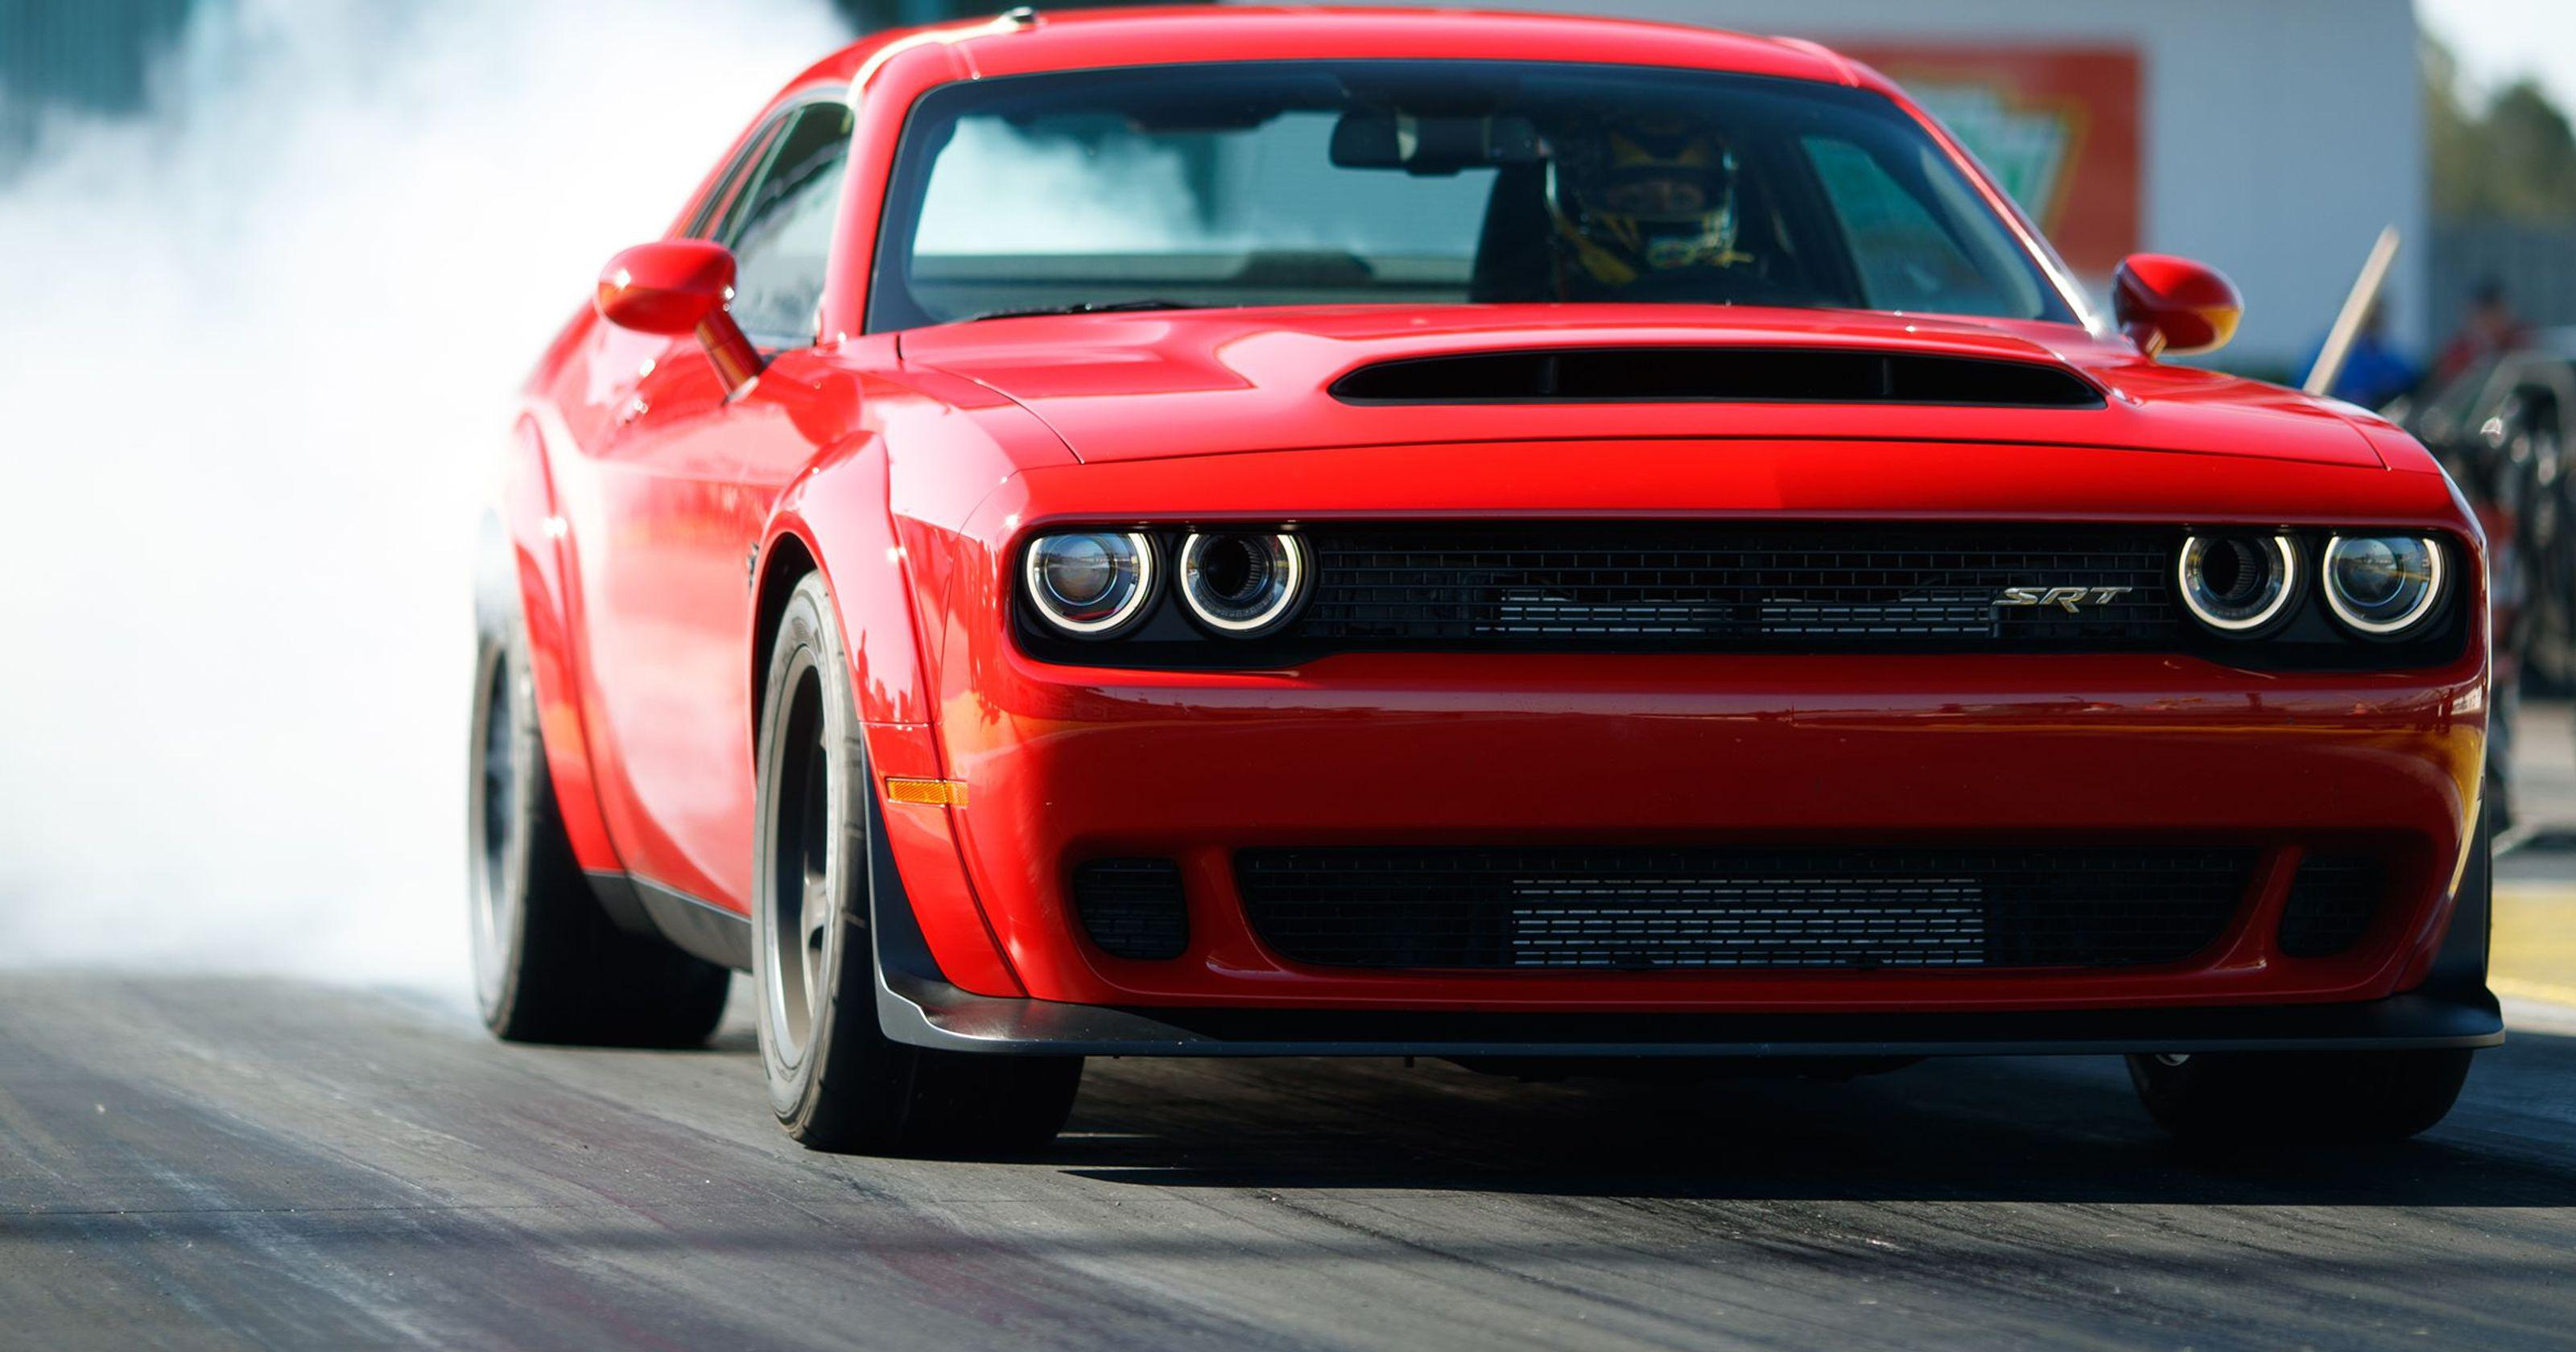car: (405, 9, 2542, 1185)
